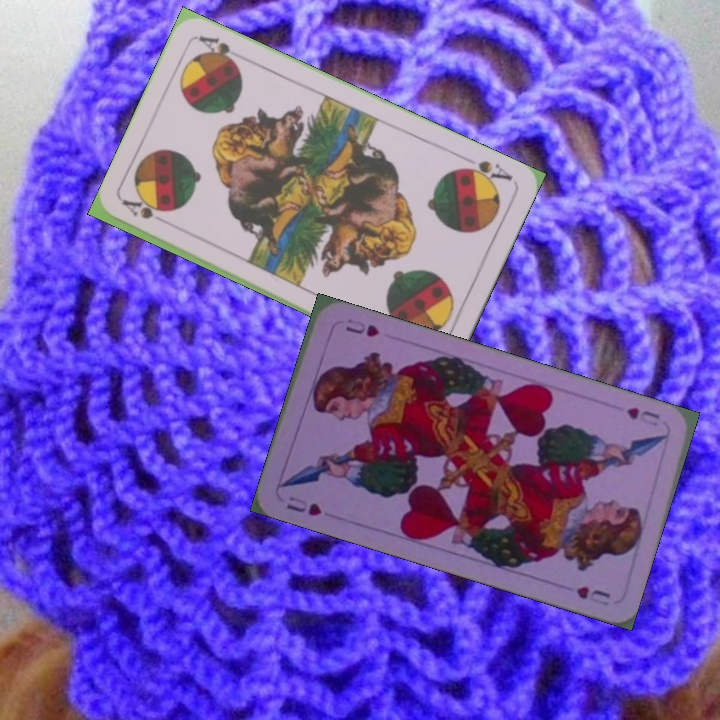HU: (282, 492, 324, 519), (622, 403, 662, 429)
SA: (455, 153, 516, 188), (119, 195, 175, 230)
